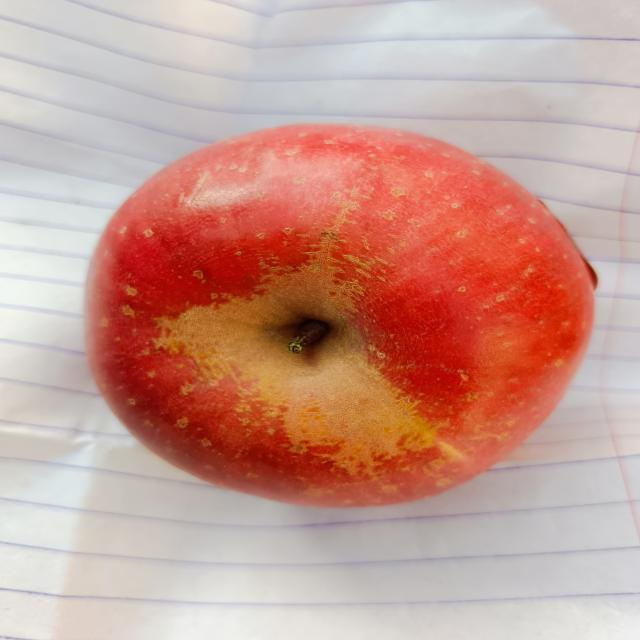Fresh Apple: (81, 114, 596, 514)
